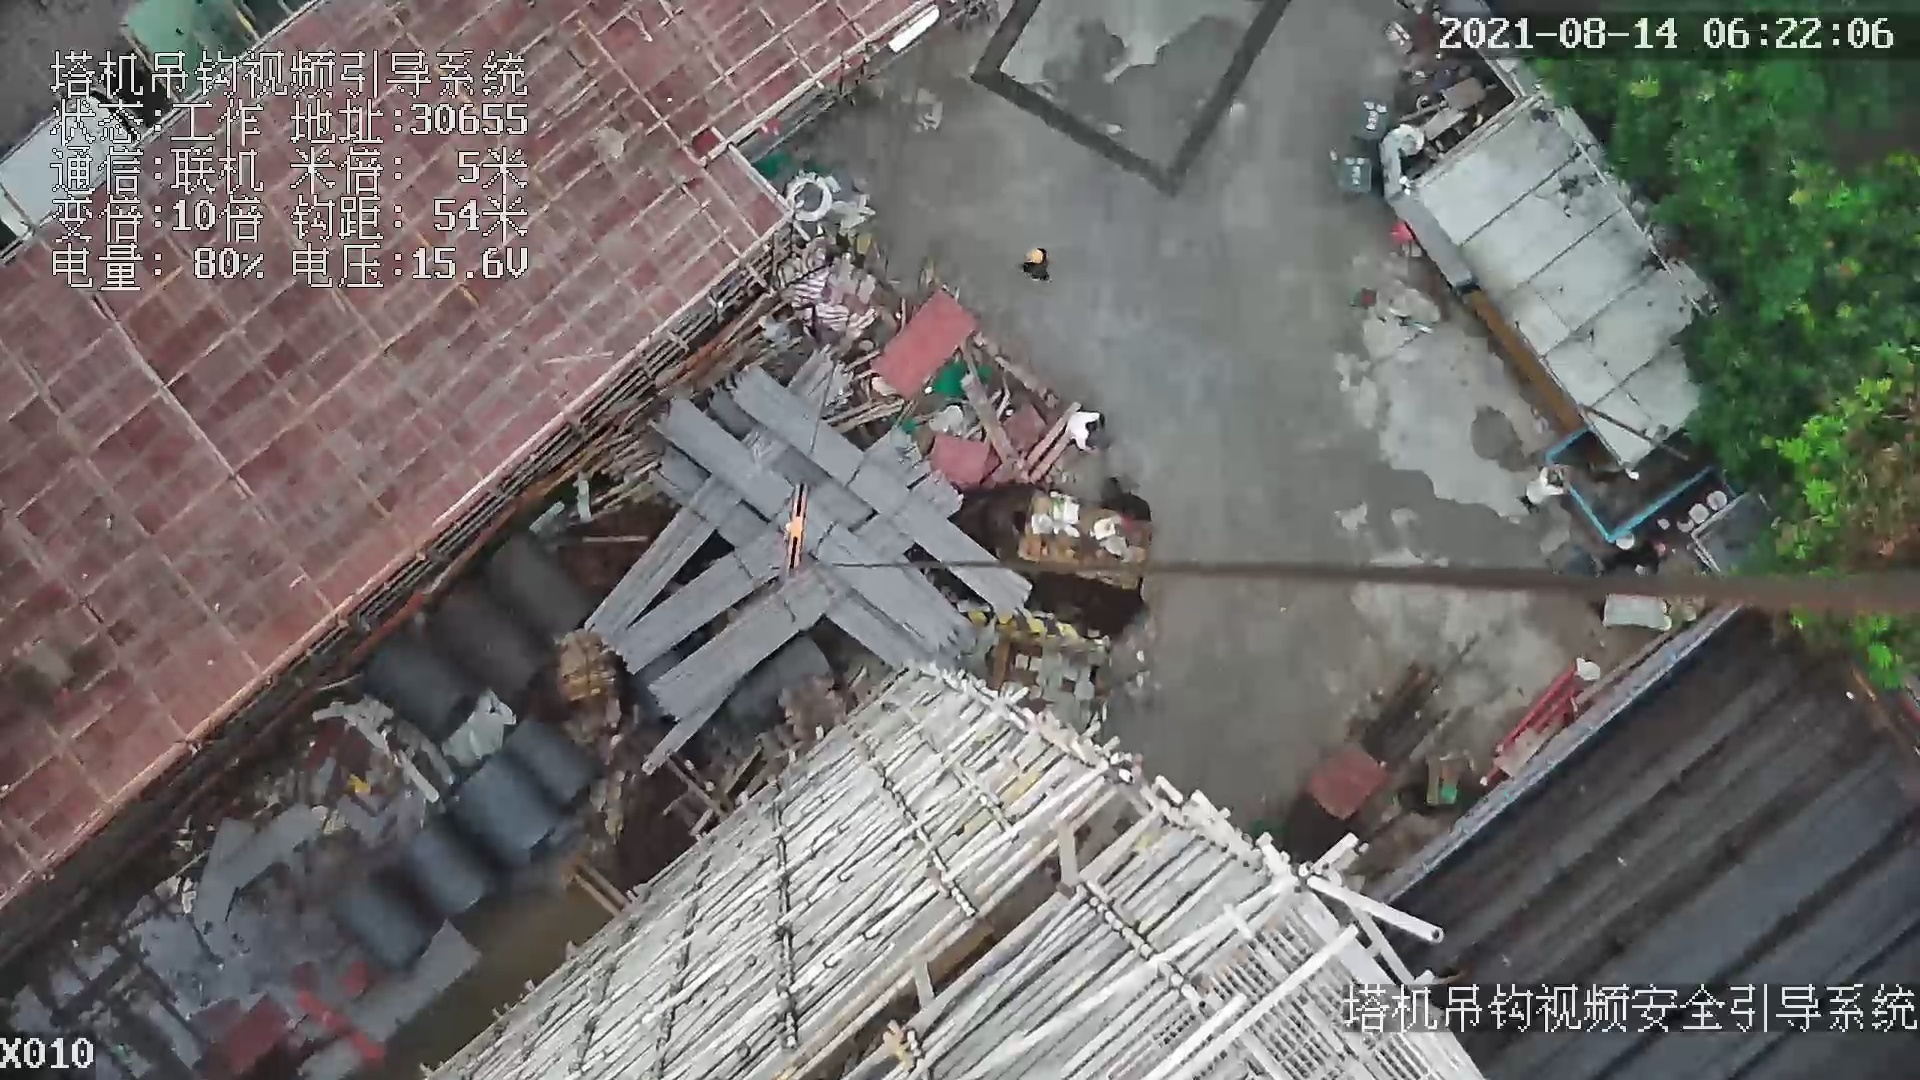helmet: (1027, 249, 1046, 266)
hook: (783, 485, 810, 572)
person: (1019, 245, 1059, 286)
